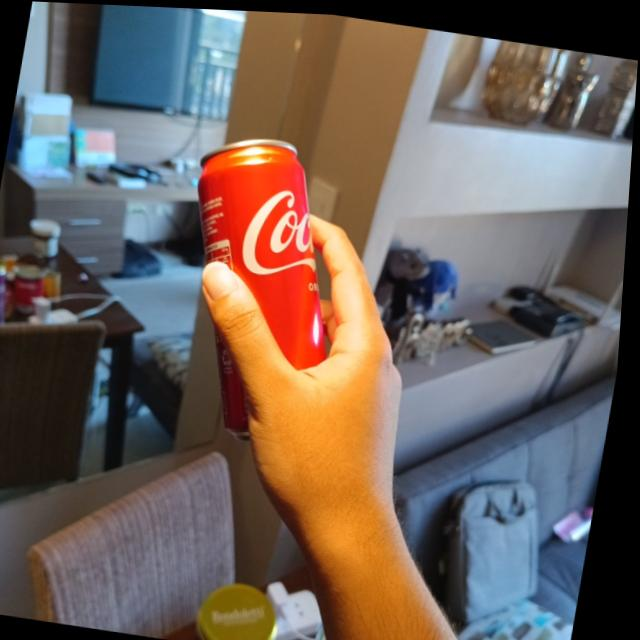coke: (162, 130, 368, 440)
